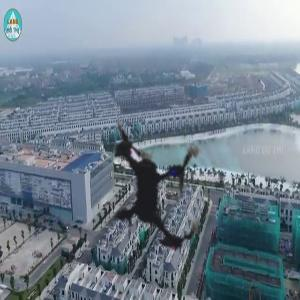drone: (52, 83, 264, 295)
